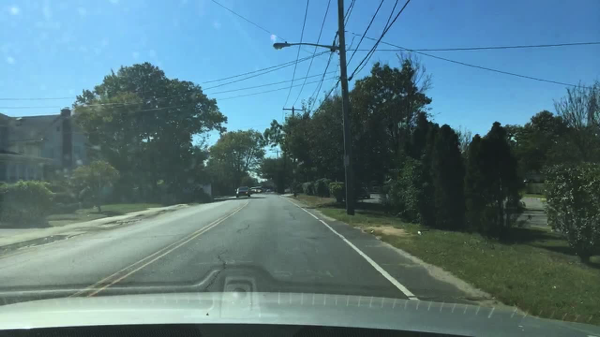car: (356, 183, 372, 199), (367, 180, 383, 193), (236, 187, 250, 197), (250, 187, 258, 194), (257, 187, 262, 194), (262, 186, 266, 193)
